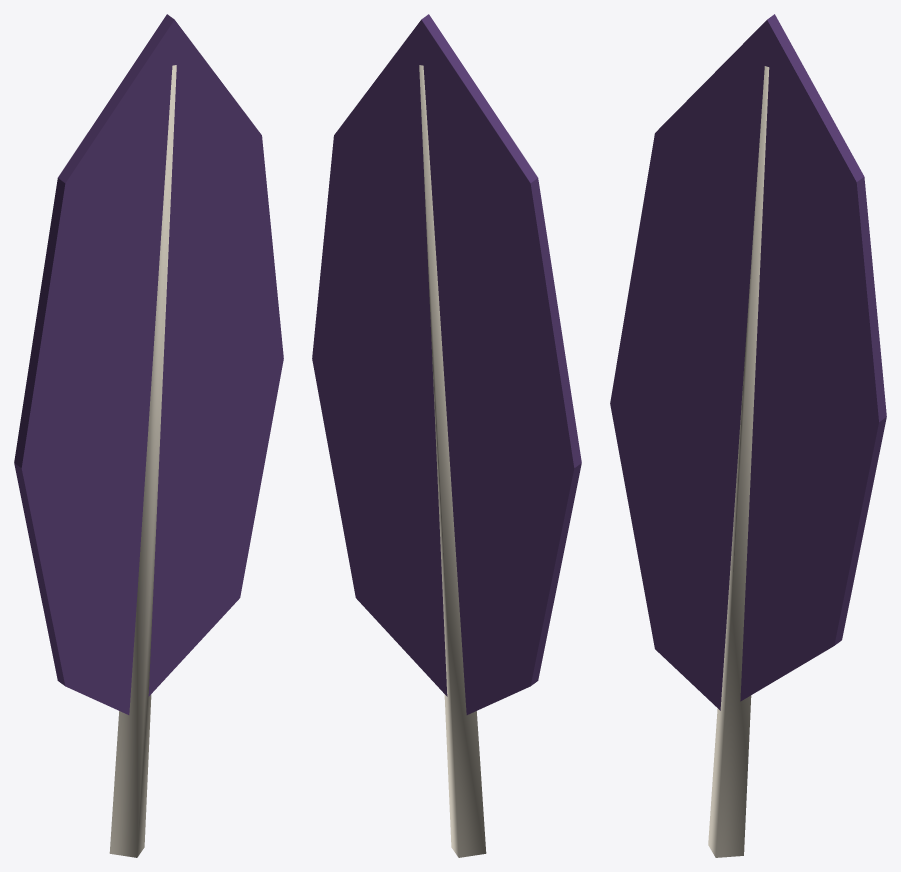
The model's file is beetle_husk.glb.
The picture shows the model from 3 angles, left to right: view 1: azimuth 30°, elevation 25°; view 2: azimuth 150°, elevation 25°; view 3: azimuth 330°, elevation 25°; orthographic projection. The views are drawn at different scales.
Visible parts, largest first — view 1: beetle_husk_v0; view 2: beetle_husk_v0; view 3: beetle_husk_v0.
Part boxes in pixels (x1,y1,x2,y2): beetle_husk_v0: (14, 14, 283, 857); beetle_husk_v0: (312, 14, 581, 857); beetle_husk_v0: (610, 14, 886, 857).
Bounding box in the file's own units: 0.12 × 0.3605 × 0.016.
